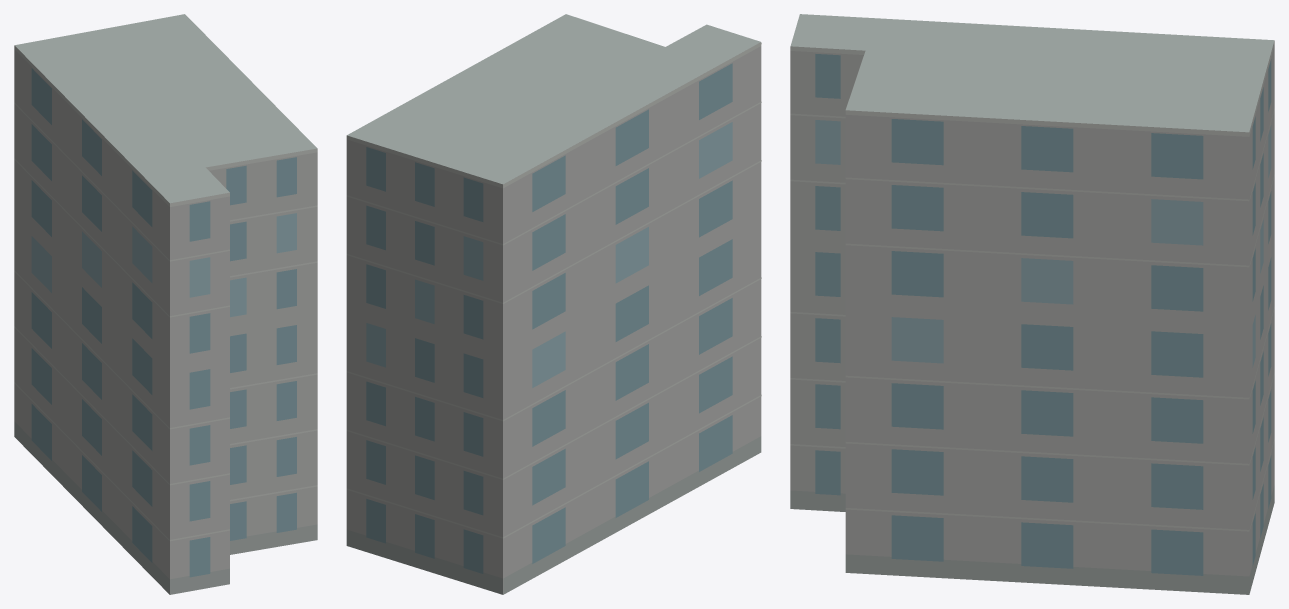
Rendered from survey-upis-32662493.glb.
The picture shows the model from 3 angles, left to right: view 1: azimuth 30°, elevation 25°; view 2: azimuth 150°, elevation 25°; view 3: azimuth 270°, elevation 25°; orthographic projection. The views are drawn at different scales.
Parts seen in each view (by area): view 1: survey-upis-32662493.tmp; view 2: survey-upis-32662493.tmp; view 3: survey-upis-32662493.tmp.
Boxes of the visible parts, box(x1,y1,x2,y2) form: survey-upis-32662493.tmp: box(14, 14, 317, 594); survey-upis-32662493.tmp: box(346, 14, 761, 594); survey-upis-32662493.tmp: box(790, 14, 1274, 594).
Bounding box in the file's own units: 13.69 × 24.9 × 23.64.
